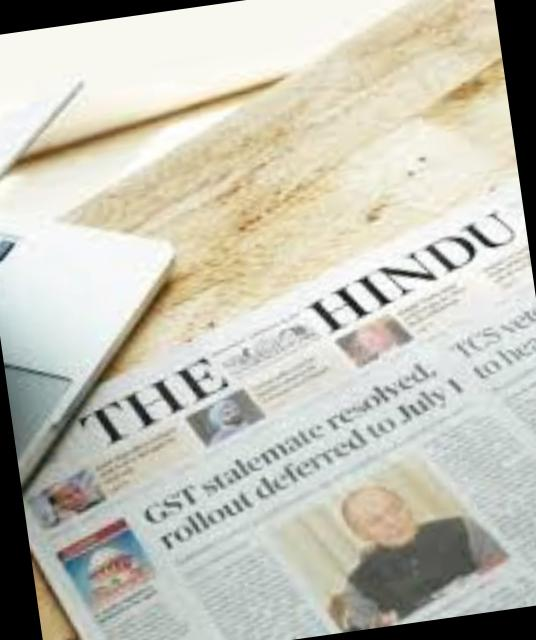cardboard paper: (21, 177, 536, 640)
